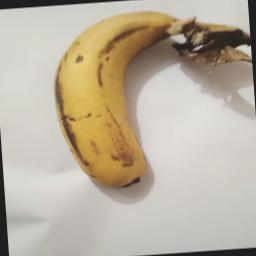Banana Unripe: (44, 3, 256, 199)
